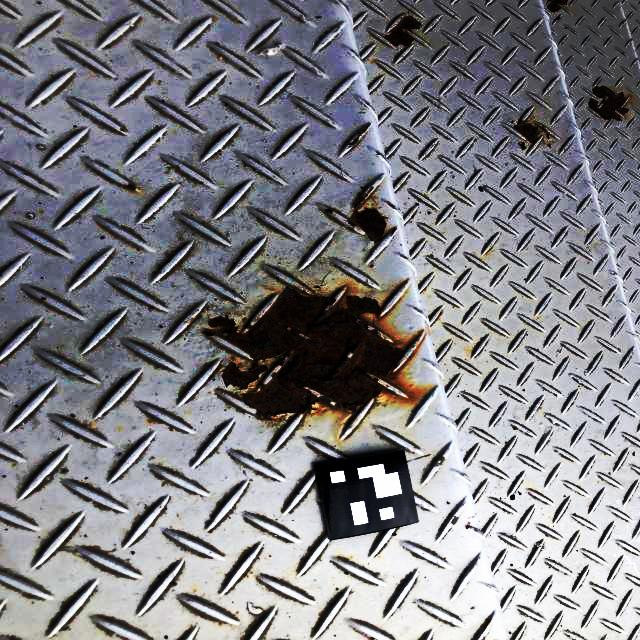Corrosion: (209, 286, 404, 421), (348, 188, 386, 245), (587, 85, 629, 121), (381, 15, 424, 48), (511, 118, 552, 148), (345, 124, 372, 146), (547, 0, 569, 13), (517, 141, 527, 151), (124, 183, 135, 192), (323, 208, 335, 214), (555, 16, 562, 21)
